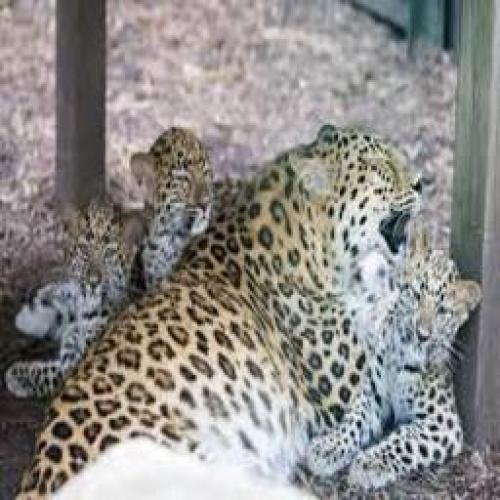amur_leopard-endangered: (39, 118, 433, 500), (319, 251, 483, 477), (9, 199, 136, 397), (121, 122, 222, 276)
